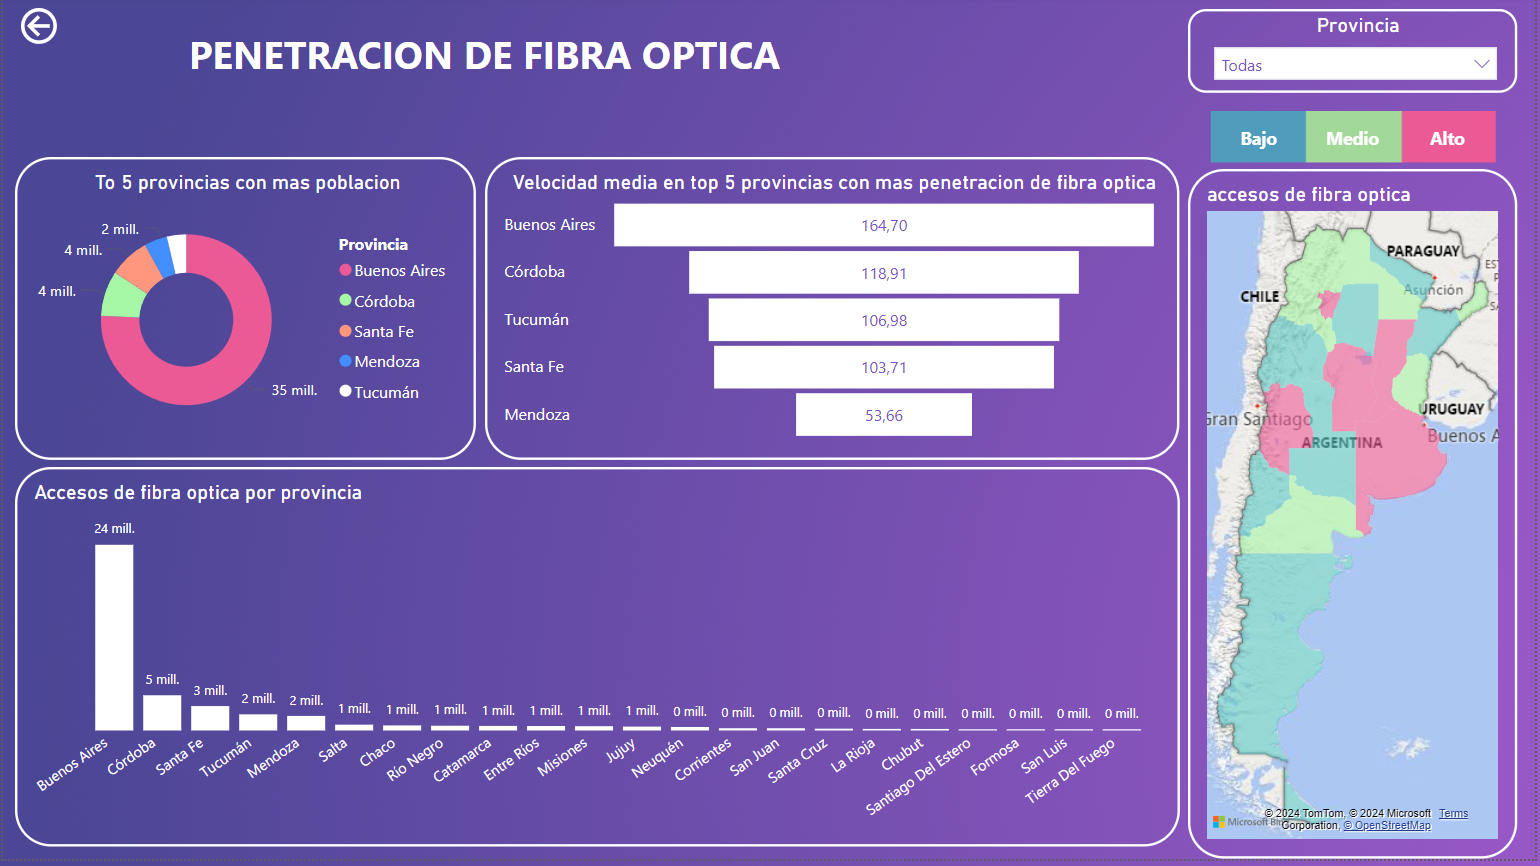

What the dashboard file says about the page in this screenshot:
{"tool":"powerbi","page":{"name":"Penetracion de fibra optica","canvas":[1280,720],"ordinal":4},"visuals":[{"type":"textbox","box":[21.8,12.7,1156.4,56.4],"z":0},{"type":"stackedAreaChart","title":"Aumento de fibra optica en priovincias con baja penetracion","fields":{"Category":["accesos_totales_por_prov_por_tec.Provincia"],"Y":["Sum(accesos_totales_por_prov_por_tec.Fibra óptica)","Sum(accesos_totales_por_prov_por_tec.Nuevo_Fibra)"]},"box":[10.9,368.2,905.5,342.7],"z":1000},{"type":"actionButton","box":[0,0,100,40],"z":2000},{"type":"barChart","fields":{"Category":["accesos_totales_por_prov_por_tec.Provincia"],"Y":["Median(acceso_por_prov_poblacion_hogares.Mbps (Media de bajada))"]},"box":[925.5,158.2,346.4,552.7],"z":3000},{"type":"kpi","title":"Acceso de fibra optica para el trimestre 2 del 2024","fields":{"Indicator":["Median(accesos_totales_por_prov_por_tec.Nuevo_Fibra)"],"Goal":["Median(accesos_totales_por_prov_por_tec.Fibra óptica)"],"TrendLine":["accesos_totales_por_prov_por_tec.Provincia"]},"box":[10.9,158.2,349.1,200.9],"z":4000}]}

Visuals, with their boxes in screenshot pixels (x1, y1, x2, y2), scaled from the page's 1280x720 canvas onto the 1540x866 screenshot:
textbox: 26,15,1418,83
"Aumento de fibra optica en priovincias con baja penetracion" stackedAreaChart: 13,443,1103,855
actionButton: 0,0,120,48
barChart - accesos_totales_por_prov_por_tec.Provincia x Median(acceso_por_prov_poblacion_hogares.Mbps (Media de bajada)): 1113,190,1530,855
"Acceso de fibra optica para el trimestre 2 del 2024" kpi: 13,190,433,432
